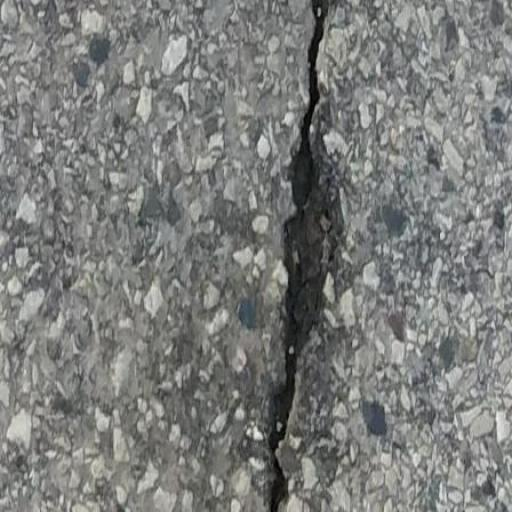spalling: (259, 4, 363, 509)
